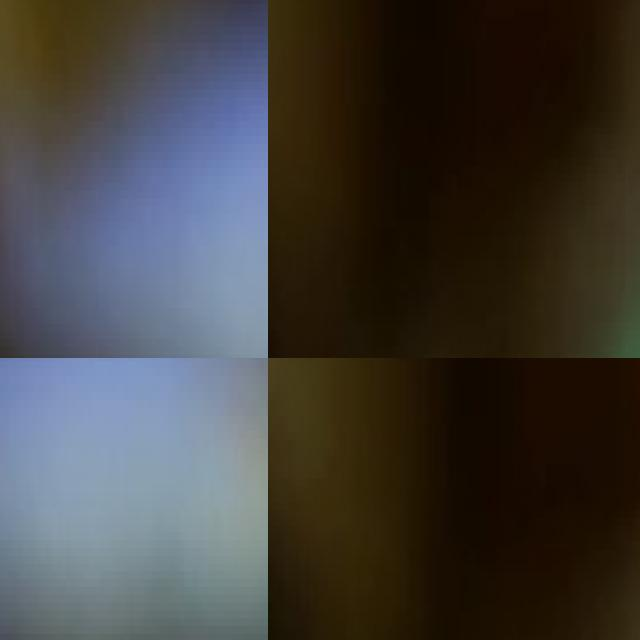fish: (0, 0, 268, 358), (0, 358, 268, 640)
